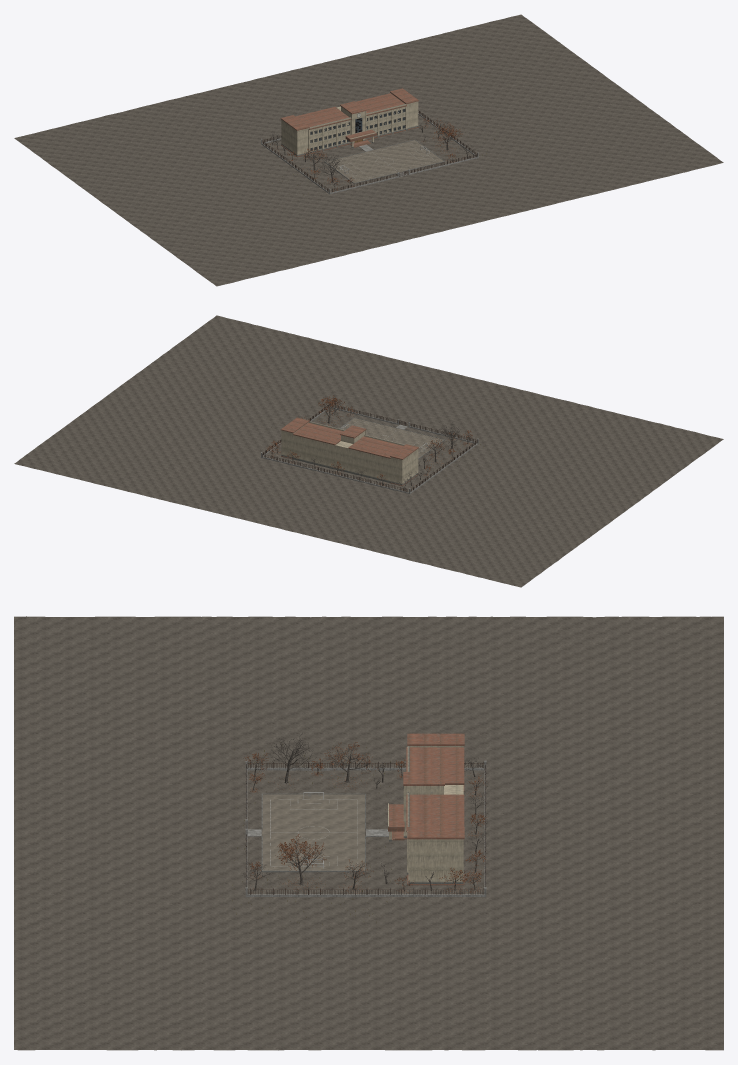
Rendered from SchoolBuilding.fbx.
3 renders of one model, top to bottom at view 1: azimuth 30°, elevation 25°; view 2: azimuth 150°, elevation 25°; view 3: azimuth 270°, elevation 25°, orthographic. The views are drawn at different scales.
Parts seen in each view (by area): view 1: Ground, School_Concrete, Playground_Field, School_ConcreteDark, Fence_Front, Window_BrokenPanels; view 2: Ground, School_Concrete, School_ConcreteDark, Playground_Field, Fence_Back, Fence_Front; view 3: Ground, Playground_Field, School_ConcreteDark, School_Concrete, Fence_Right, Fence_Left, Playground_Edge, Tree_Big_Dry_06, Tree_Big_Bare_01, Tree_Big_Sparse_02.
Part boxes in pixels (box(x1,y1,x2,y2)): Ground: box(14, 14, 723, 286); School_Concrete: box(281, 93, 418, 156); Playground_Field: box(325, 140, 443, 182); School_ConcreteDark: box(280, 88, 418, 157); Fence_Front: box(329, 152, 478, 194); Window_BrokenPanels: box(310, 109, 405, 150); Ground: box(14, 315, 723, 587); School_Concrete: box(281, 421, 418, 485); School_ConcreteDark: box(280, 417, 418, 486); Playground_Field: box(340, 418, 443, 458); Fence_Back: box(261, 452, 410, 493); Fence_Front: box(329, 404, 478, 444); Ground: box(14, 616, 723, 1050); Playground_Field: box(262, 794, 364, 870); School_ConcreteDark: box(388, 733, 464, 885); School_Concrete: box(388, 746, 463, 883); Fence_Right: box(247, 888, 484, 897); Fence_Left: box(247, 761, 484, 770); Playground_Edge: box(247, 793, 388, 872); Tree_Big_Dry_06: box(275, 834, 326, 885); Tree_Big_Bare_01: box(270, 732, 316, 783); Tree_Big_Sparse_02: box(324, 742, 378, 782).
Size of the model in its own units: 260 by 23.03 by 180.
